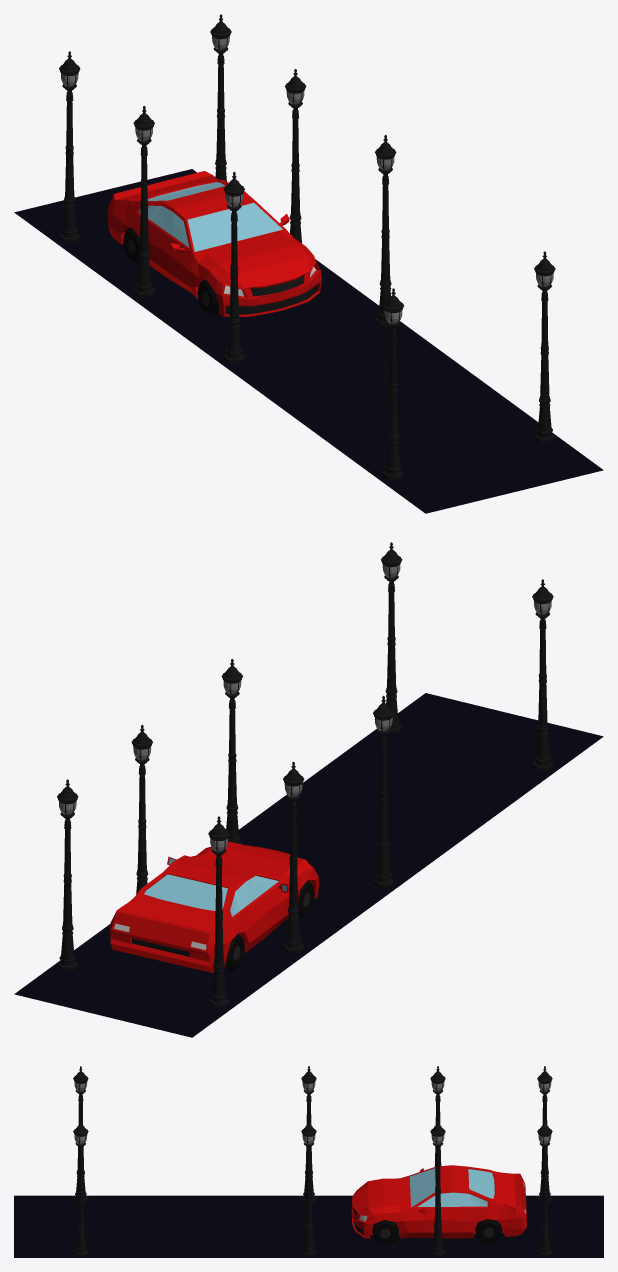
File: Salle2_2.obj
3 renders of one model, top to bottom at view 1: azimuth 30°, elevation 25°; view 2: azimuth 150°, elevation 25°; view 3: azimuth 270°, elevation 25°, orthographic. The views are drawn at different scales.
Visible parts, largest first — view 1: Plane, Body_Cube.001, lamp_post.002, lamp_post.005, lamp_post.001, lamp_post.004, lamp_post.006, lamp_post, lamp_post.007, lamp_post.003; view 2: Plane, Body_Cube.001, lamp_post.006, lamp_post.001, lamp_post.003, lamp_post.004, lamp_post.002, lamp_post, lamp_post.005, lamp_post.007; view 3: Plane, Body_Cube.001, lamp_post, lamp_post.003, lamp_post.007, lamp_post.005, lamp_post.001, lamp_post.002, lamp_post.004, BackLeftWheel_Cylinder.001, FrontLeftWheel_Cylinder, lamp_post.006.
Boxes of the visible parts, left/top/right/bottom form: Plane: left=14, top=169, right=603, bottom=513; Body_Cube.001: left=108, top=171, right=321, bottom=316; lamp_post.002: left=59, top=51, right=80, bottom=242; lamp_post.005: left=534, top=251, right=555, bottom=442; lamp_post.001: left=223, top=171, right=244, bottom=362; lamp_post.004: left=383, top=288, right=403, bottom=479; lamp_post.006: left=133, top=106, right=154, bottom=296; lamp_post: left=375, top=135, right=396, bottom=325; lamp_post.007: left=285, top=69, right=306, bottom=243; lamp_post.003: left=210, top=14, right=231, bottom=181; Plane: left=14, top=693, right=603, bottom=1037; Body_Cube.001: left=110, top=841, right=319, bottom=972; lamp_post.006: left=283, top=761, right=304, bottom=952; lamp_post.001: left=373, top=695, right=394, bottom=886; lamp_post.003: left=57, top=779, right=78, bottom=970; lamp_post.004: left=532, top=579, right=553, bottom=770; lamp_post.002: left=208, top=816, right=229, bottom=1007; lamp_post: left=221, top=659, right=242, bottom=844; lamp_post.005: left=381, top=542, right=402, bottom=733; lamp_post.007: left=131, top=724, right=152, bottom=894; Plane: left=14, top=1195, right=603, bottom=1257; Body_Cube.001: left=351, top=1165, right=526, bottom=1238; lamp_post: left=301, top=1119, right=316, bottom=1255; lamp_post.003: left=537, top=1119, right=552, bottom=1255; lamp_post.007: left=430, top=1119, right=445, bottom=1255; lamp_post.005: left=73, top=1119, right=88, bottom=1255; lamp_post.001: left=301, top=1066, right=316, bottom=1202; lamp_post.002: left=537, top=1066, right=552, bottom=1202; lamp_post.004: left=73, top=1066, right=88, bottom=1202; BackLeftWheel_Cylinder.001: left=475, top=1219, right=502, bottom=1243; FrontLeftWheel_Cylinder: left=372, top=1220, right=399, bottom=1244; lamp_post.006: left=430, top=1066, right=445, bottom=1166.
Bounding box in the file's own units: 10 × 10.07 × 40.
